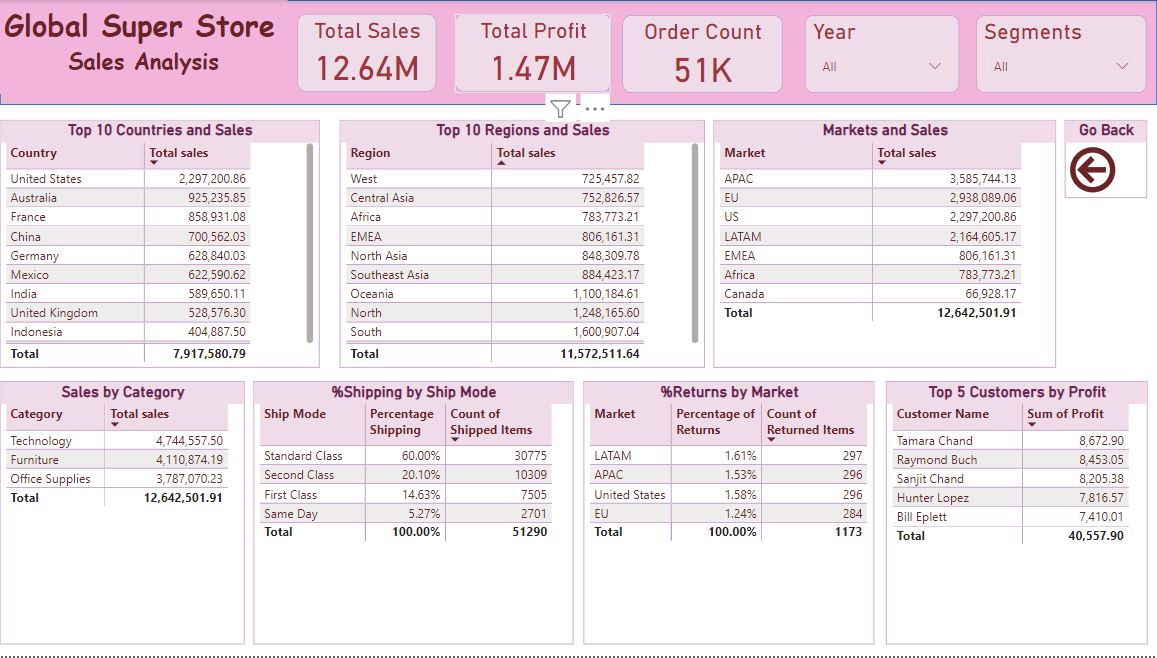

This screenshot's page, from the dashboard's own definition file:
{"tool":"powerbi","page":{"name":"Sales Analysis Tables","canvas":[1280,720],"ordinal":2},"visuals":[{"type":"shape","box":[9.6,0,1270.7,115.3],"z":0},{"type":"textbox","box":[9.6,0,315.6,102.9],"z":1000},{"type":"tableEx","title":"Top 10 Countries and Sales","fields":{"Values":["Orders.Country","Orders.Total sales"]},"box":[9.7,131.8,350.9,271.9],"z":6000},{"type":"tableEx","title":"Markets and Sales","fields":{"Values":["Orders.Market","Orders.Total sales"]},"box":[793.4,131.8,375.9,271.9],"z":7000},{"type":"tableEx","title":"Top 10 Regions and Sales","fields":{"Values":["Orders.Region","Orders.Total sales"]},"box":[382.8,131.8,400.9,271.9],"z":8000},{"type":"tableEx","title":"Sales by Category","fields":{"Values":["Orders.Category","Orders.Total sales"]},"box":[9.7,418.9,269.1,288.5],"z":9000},{"type":"tableEx","title":"%Shipping by Ship Mode","fields":{"Values":["Orders.Ship Mode","Orders.Order ID","Orders.Order ID"]},"box":[288.5,418.9,350.9,288.5],"z":10000},{"type":"tableEx","title":"%Returns by Market","fields":{"Values":["Returns.Market","Orders.Order ID","Returns.Order ID"]},"box":[650.5,418.9,319,288.5],"z":11000},{"type":"actionButton","title":"Go Back","box":[1179,131.8,90.2,86],"z":12001},{"type":"tableEx","title":"Top 5 Customers by Profit","fields":{"Values":["Orders.Customer Name","Orders.Profit"]},"box":[982.1,418.9,287.1,288.5],"z":12002},{"type":"card","title":"Total Sales","fields":{"Values":["Orders.Total sales"]},"box":[335.7,15.3,152.6,86],"z":12003},{"type":"card","title":"Total Profit","fields":{"Values":["Orders.Total Profit"]},"box":[509.1,15.3,172,86],"z":12004},{"type":"card","title":"Order Count","fields":{"Values":["Orders.Order Count"]},"box":[693.5,16.6,176.2,86],"z":12005},{"type":"slicer","title":"Year","fields":{"Values":["Orders.Order Date.Variation.Date Hierarchy.Year"]},"box":[893.3,16.6,169.2,86],"z":12006},{"type":"slicer","title":"Segments","fields":{"Values":["Orders.Region Hierarchy.Region","Orders.Region Hierarchy.Market","Orders.Region Hierarchy.Country"]},"box":[1081.9,16.6,187.3,86],"z":12007}]}

Visuals, with their boxes in screenshot pixels (x1, y1, x2, y2), scaled from the page's 1280x720 canvas onto the 1157x658 screenshot:
shape: bbox=(9, 0, 1156, 105)
textbox: bbox=(9, 0, 294, 94)
"Top 10 Countries and Sales" tableEx: bbox=(9, 120, 326, 369)
"Markets and Sales" tableEx: bbox=(717, 120, 1057, 369)
"Top 10 Regions and Sales" tableEx: bbox=(346, 120, 708, 369)
"Sales by Category" tableEx: bbox=(9, 383, 252, 646)
"%Shipping by Ship Mode" tableEx: bbox=(261, 383, 578, 646)
"%Returns by Market" tableEx: bbox=(588, 383, 876, 646)
"Go Back" actionButton: bbox=(1066, 120, 1147, 199)
"Top 5 Customers by Profit" tableEx: bbox=(888, 383, 1147, 646)
"Total Sales" card: bbox=(303, 14, 441, 93)
"Total Profit" card: bbox=(460, 14, 616, 93)
"Order Count" card: bbox=(627, 15, 786, 94)
"Year" slicer: bbox=(807, 15, 960, 94)
"Segments" slicer: bbox=(978, 15, 1147, 94)
